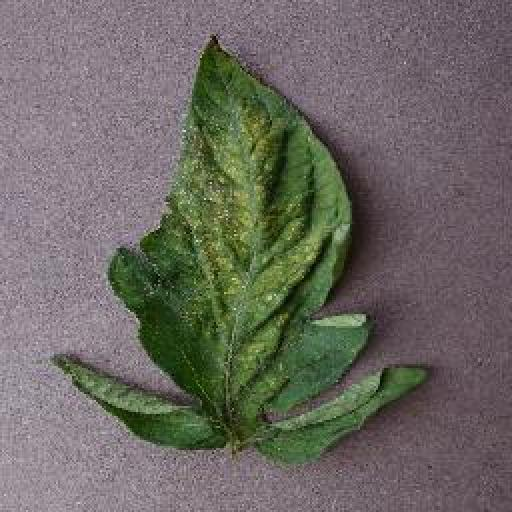disease_tomato: (110, 34, 372, 418)
